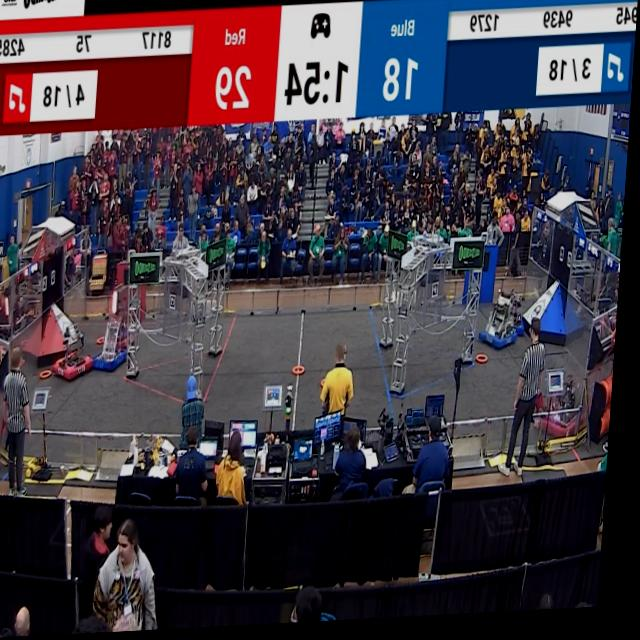Robot: (45, 311, 98, 386), (548, 368, 596, 446), (485, 293, 531, 359), (100, 307, 136, 377), (108, 315, 139, 351)
